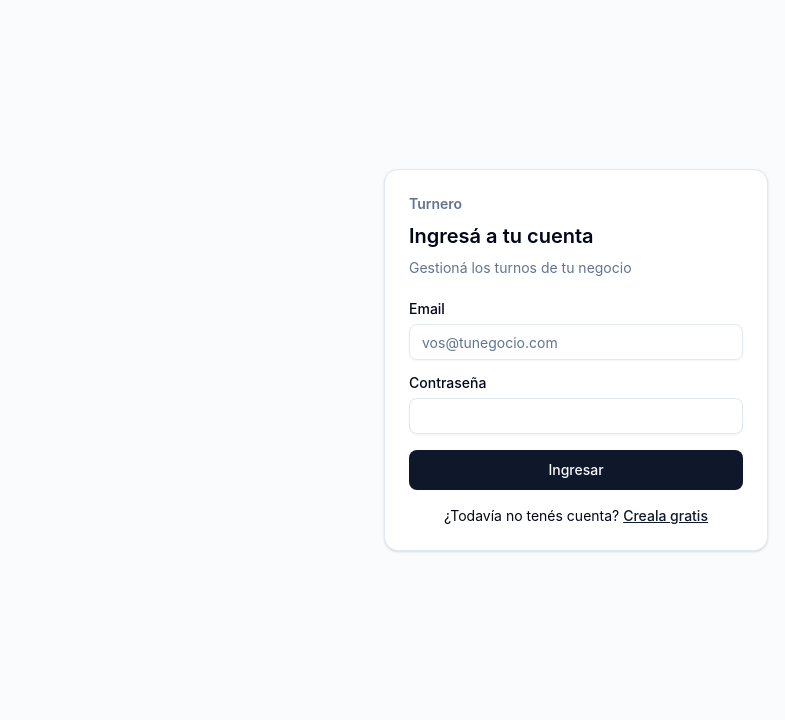
Test case: auth flow › logs in and lands on the panel home
The image size is (785, 720).
Type "owner@demo.local" into the field labelled "Email" at (576, 342), box [409,324,743,360]
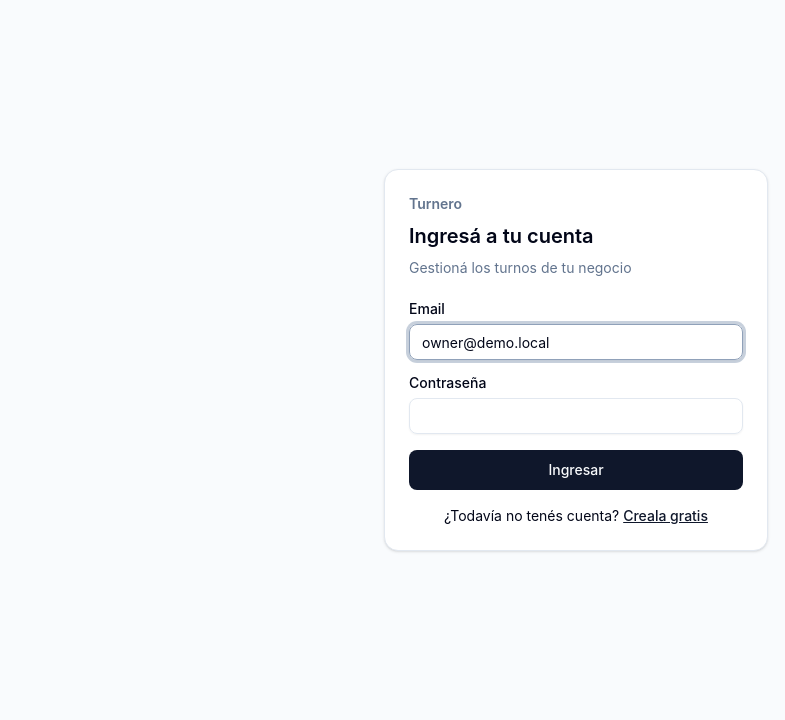
Type "Demo1234!" into the password field labelled "Contraseña" at (576, 416), box [409,398,743,434]
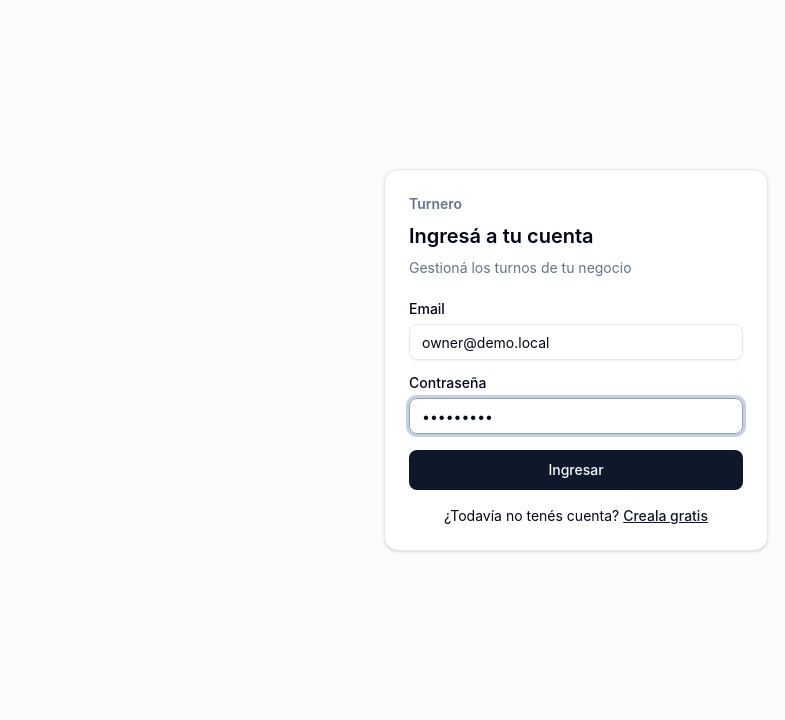
Click the button "Ingresar" at (576, 470), box [409,450,743,490]
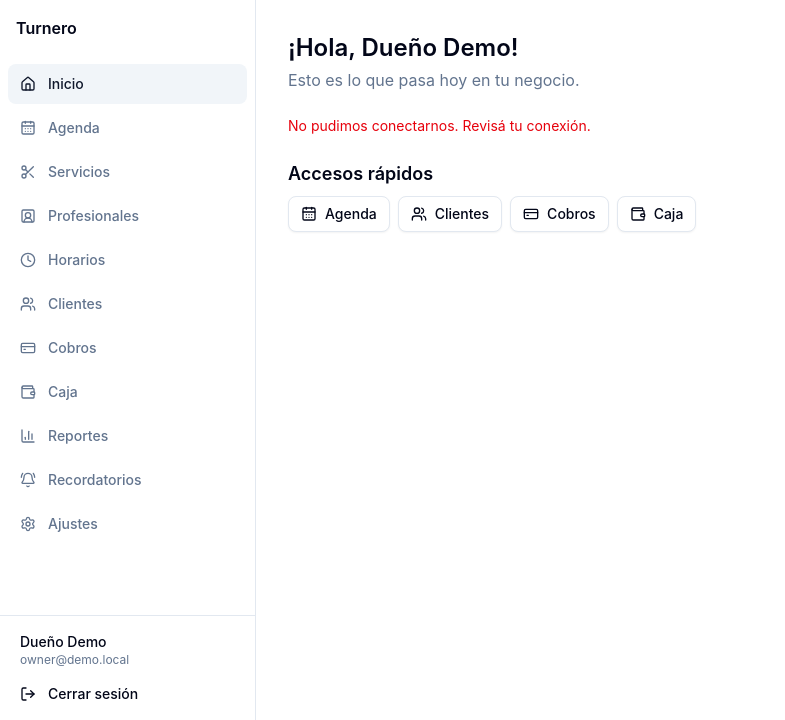
Expected: the link "Agenda" below "Inicio" is shown, [20,119,100,136]
